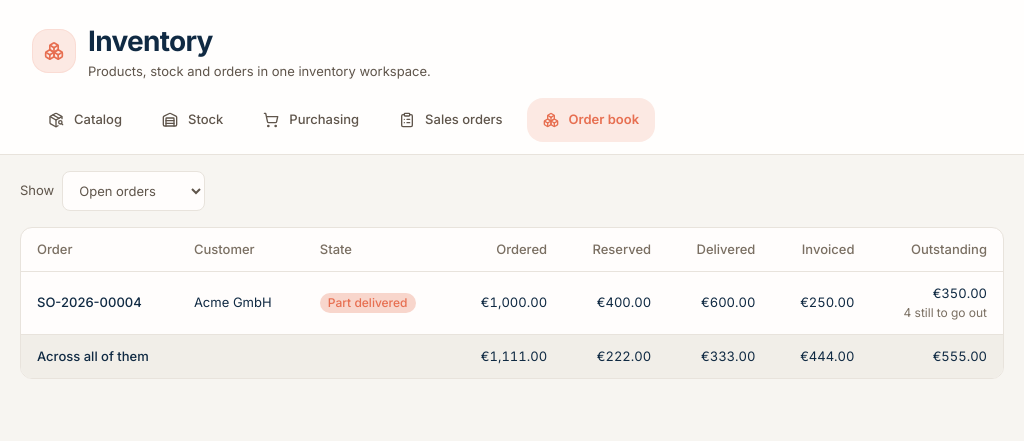
Test case: the order book › changing the scope asks the server again rather than filtering the page
This screenshot has width=1024, height=441.
Expected: the button "SO-2026-00004" is shown, [37,293,142,312]
Select "Every order" in the dropdown labelled "Show" at (134, 190), box [62,170,205,210]
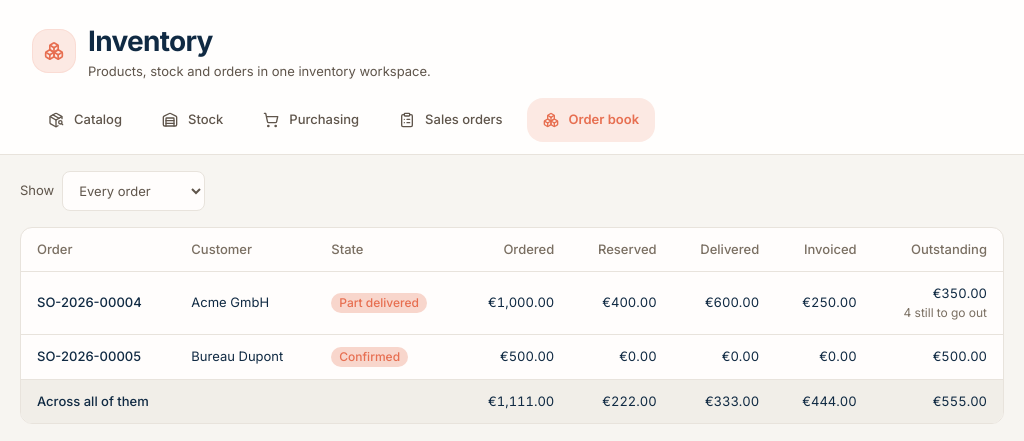
Result: the button "SO-2026-00005" is shown at [37,347,141,366]
